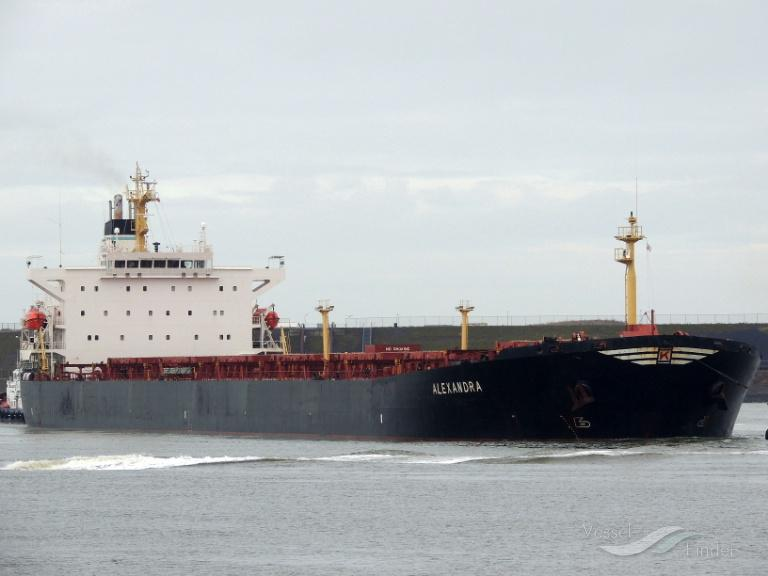OCR: (420, 375, 486, 400)
